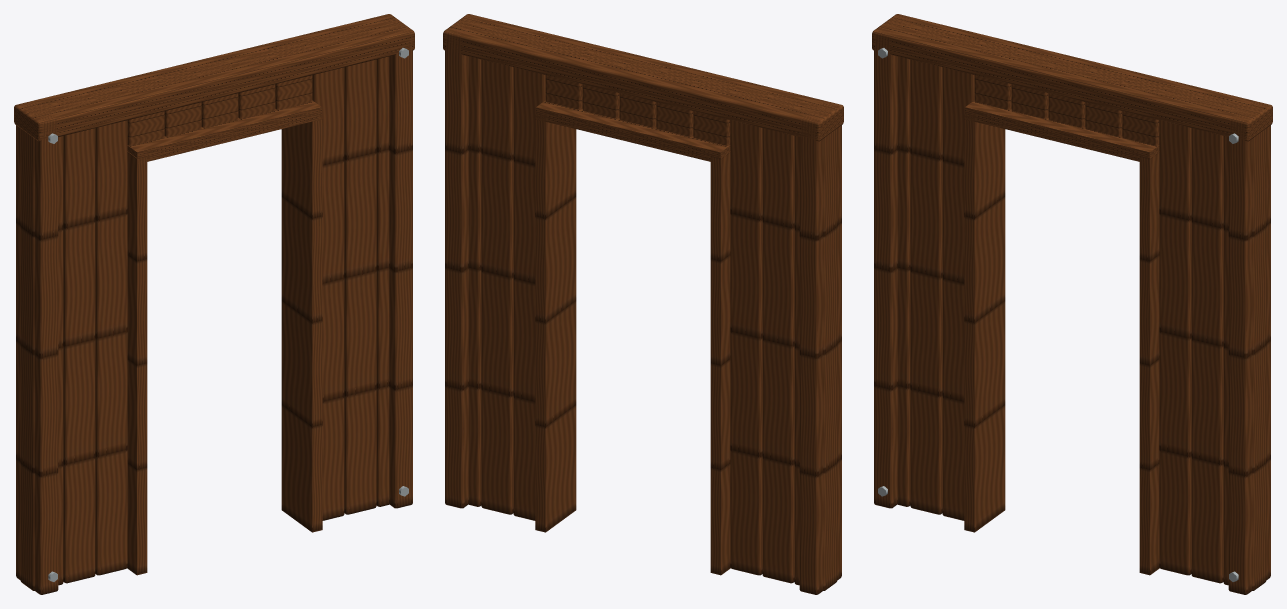
File: roadside-survival-stops-restroom-entry-wall-77dac281__23513.glb
3 renders of one model, left to right at view 1: azimuth 30°, elevation 25°; view 2: azimuth 150°, elevation 25°; view 3: azimuth 330°, elevation 25°, orthographic.
Visible parts, largest first — view 1: restroom-entry-wall; view 2: restroom-entry-wall; view 3: restroom-entry-wall.
Boxes of the visible parts, bbox=[...] form: restroom-entry-wall: bbox=[14, 14, 414, 594]; restroom-entry-wall: bbox=[443, 14, 843, 594]; restroom-entry-wall: bbox=[872, 14, 1272, 594].
Bounding box in the file's own units: 2 × 2.4 × 0.2801.
Materials: 2 (1 with a texture image).
